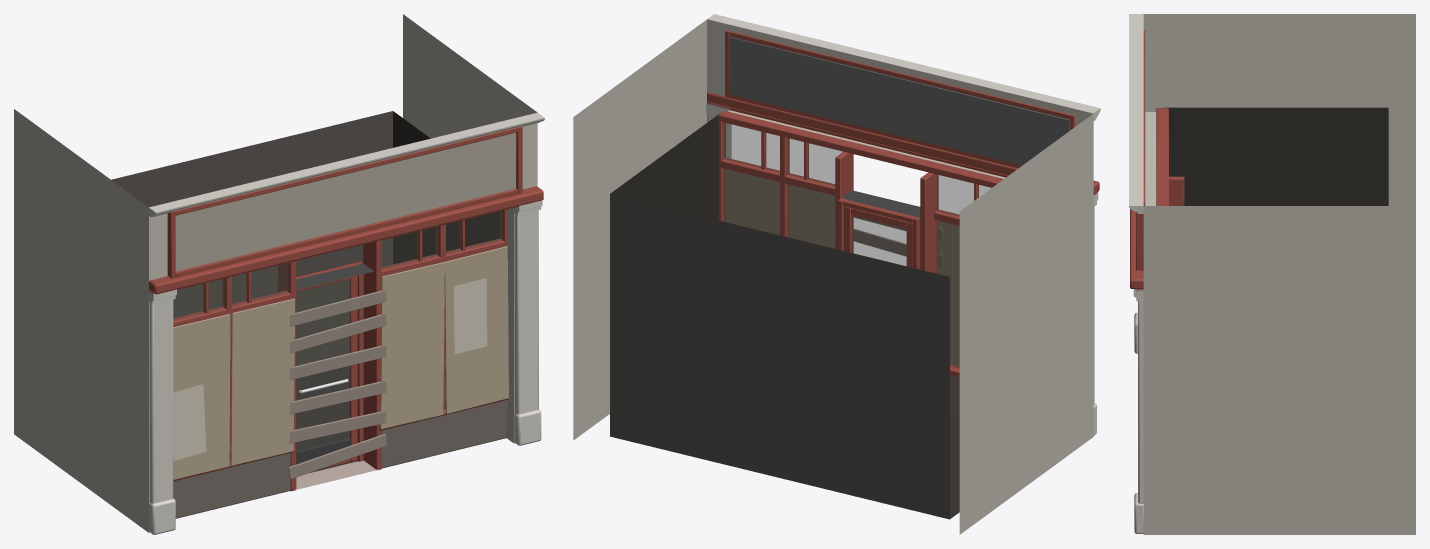
File: boarded_5a.glb
The picture shows the model from 3 angles, left to right: view 1: azimuth 30°, elevation 25°; view 2: azimuth 150°, elevation 25°; view 3: azimuth 270°, elevation 25°; orthographic projection.
Parts seen in each view (by area): view 1: boarded_5a; view 2: boarded_5a; view 3: boarded_5a.
Boxes of the visible parts, bbox=[...] form: boarded_5a: bbox=[14, 14, 544, 534]; boarded_5a: bbox=[573, 14, 1100, 534]; boarded_5a: bbox=[1129, 14, 1415, 534].
Size of the model in its own units: 5 by 4 by 3.16.
